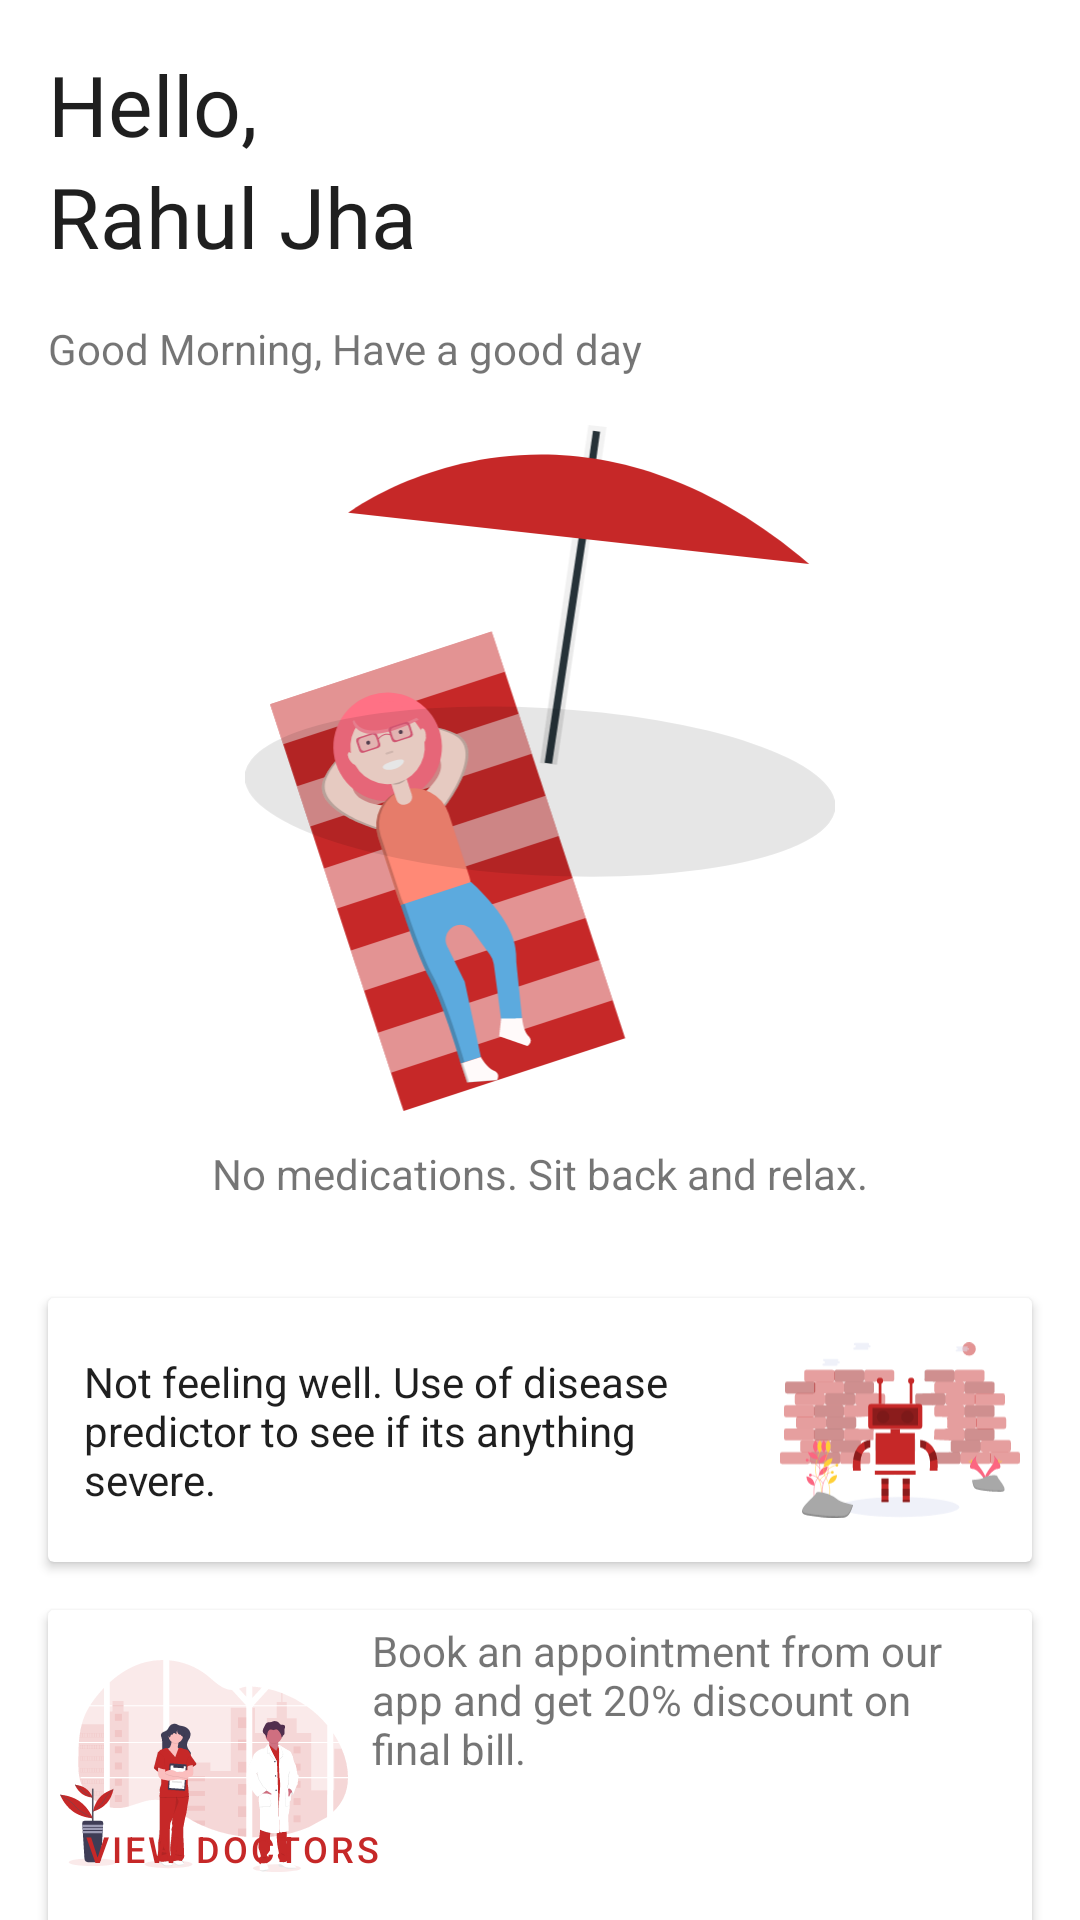

Icons on this 1080*1920 Android screen, each with the point to tap as point (x, y):
undraw ai: point (900, 1430)
